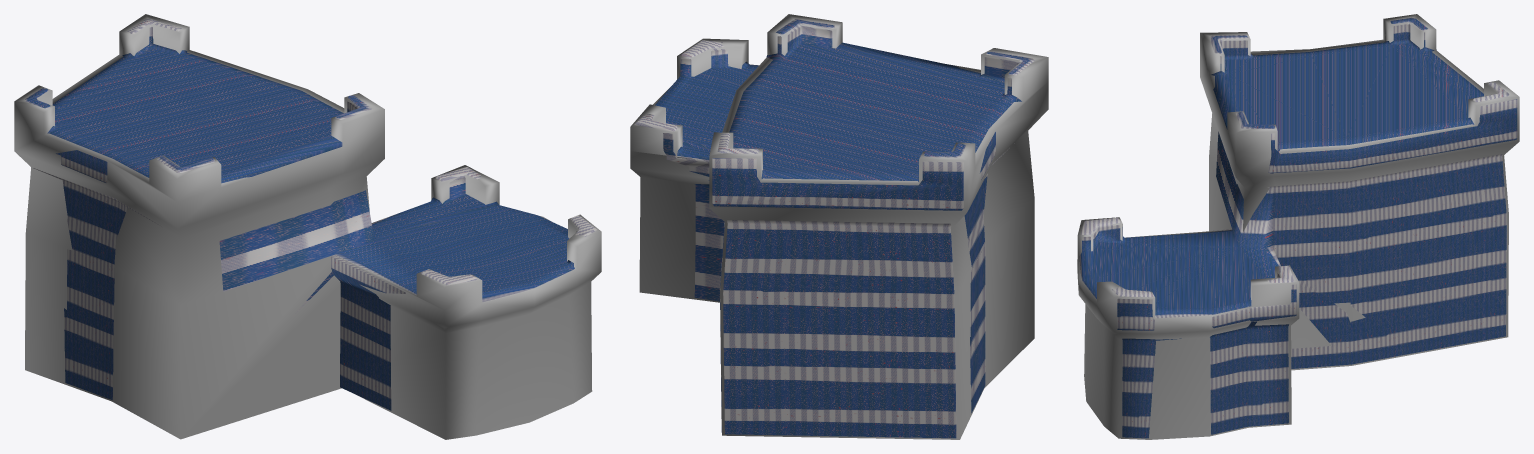
File: housedouble.fbx
3 views of the same model, side by side, from view 1: azimuth 30°, elevation 25°; view 2: azimuth 150°, elevation 25°; view 3: azimuth 270°, elevation 25° (orthographic). The views are drawn at different scales.
Parts seen in each view (by area): view 1: pCube157, town:town:pCube157; view 2: town:town:pCube157, pCube157; view 3: town:town:pCube157, pCube157.
Part boxes in pixels (x1,y1,x2,y2): pCube157: [14, 14, 601, 439]; town:town:pCube157: [25, 19, 596, 410]; town:town:pCube157: [634, 19, 1034, 438]; pCube157: [630, 14, 1048, 439]; town:town:pCube157: [1079, 17, 1517, 438]; pCube157: [1077, 14, 1519, 439].
Bounding box in the file's own units: 0.2006 × 0.1235 × 0.2022.
